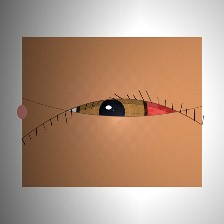hemorrhage_spot: (107, 77, 192, 145)
